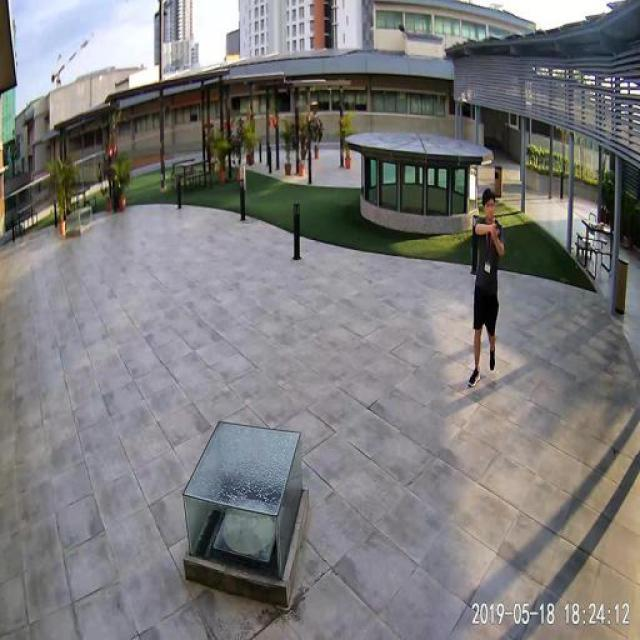weapon: (491, 222, 504, 236)
